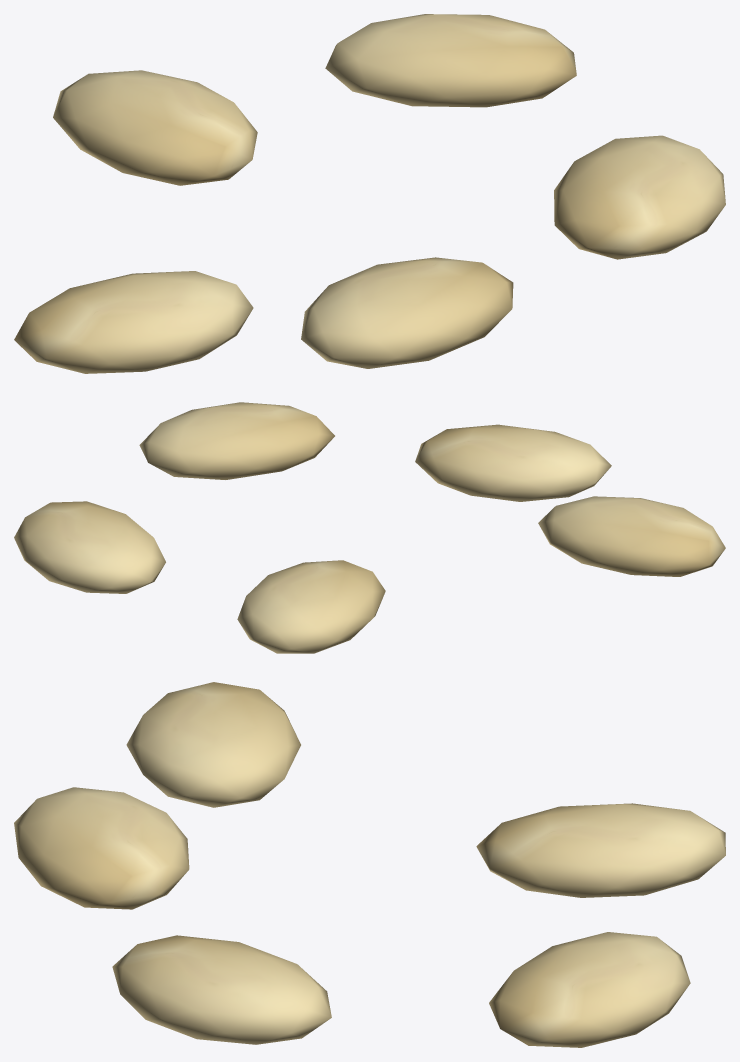
The model's file is NP_Cucumber_Seed.fbx.
3 renders of one model, top to bottom at view 1: azimuth 30°, elevation 25°; view 2: azimuth 150°, elevation 25°; view 3: azimuth 270°, elevation 25°, orthographic. The views are drawn at different scales.
Parts seen in each view (by area): view 1: NP_Cucumber_Seed; view 2: NP_Cucumber_Seed; view 3: NP_Cucumber_Seed.
Part boxes in pixels (x1,y1,x2,y2): NP_Cucumber_Seed: [14, 14, 725, 373]; NP_Cucumber_Seed: [14, 402, 725, 653]; NP_Cucumber_Seed: [14, 682, 725, 1047].
Size of the model in its own units: 14.11 by 1.2 by 12.21.
